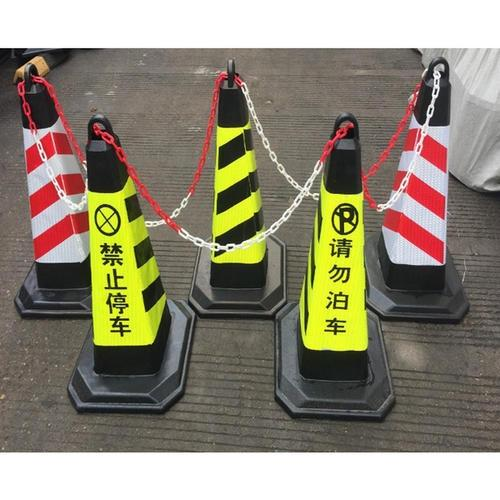cone_barrel: (68, 116, 186, 401), (282, 122, 389, 410), (362, 60, 465, 315), (3, 74, 98, 318), (180, 71, 279, 296)
